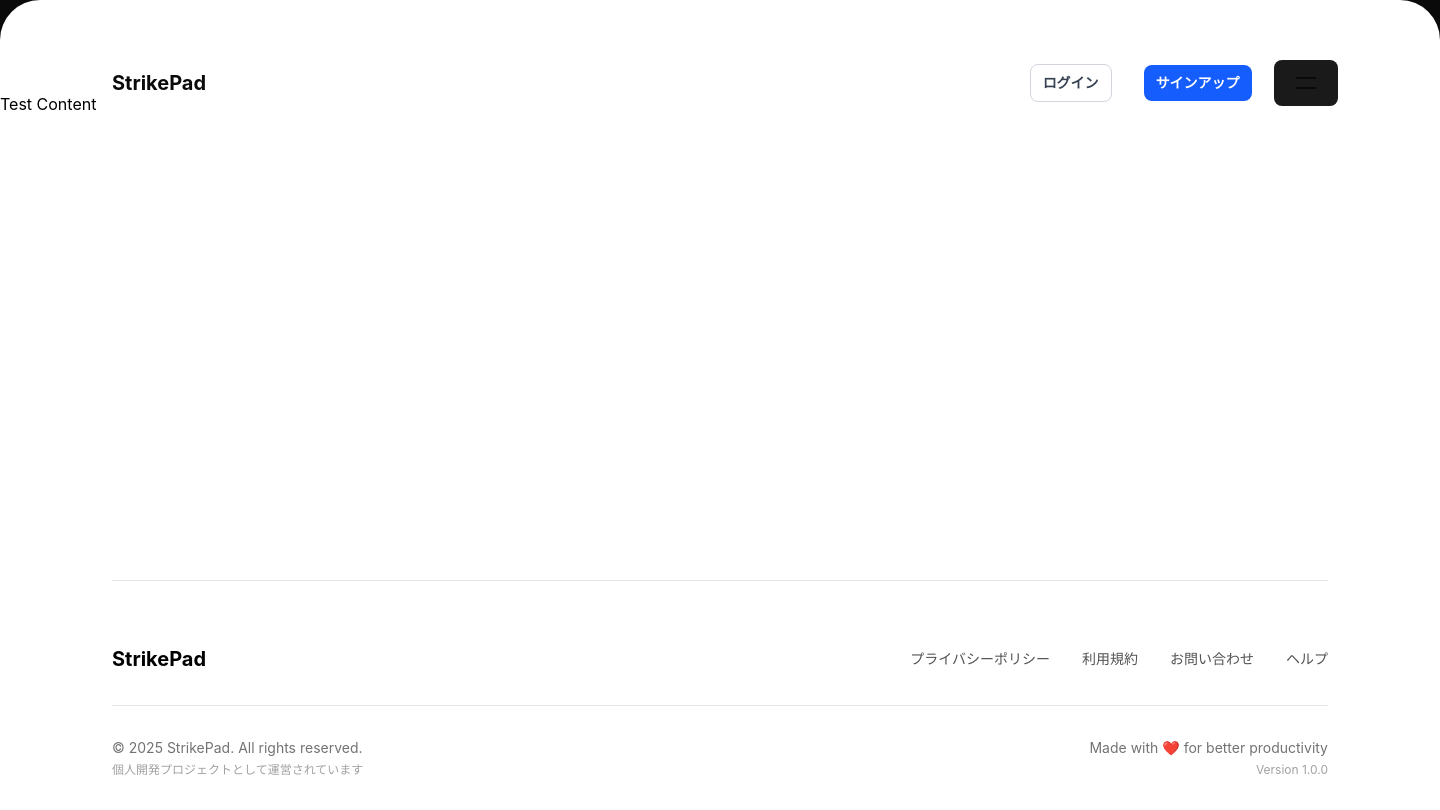
it: Layout › Header Navigation › opens mobile menu when toggle button is clicked
Expected: the text "機能" is not shown
Expected: the text "料金" is not shown
Note: Click the menu toggle button
Click the button named "toggle navigation". click: click(1306, 83)
box: [1274, 60, 1338, 106]
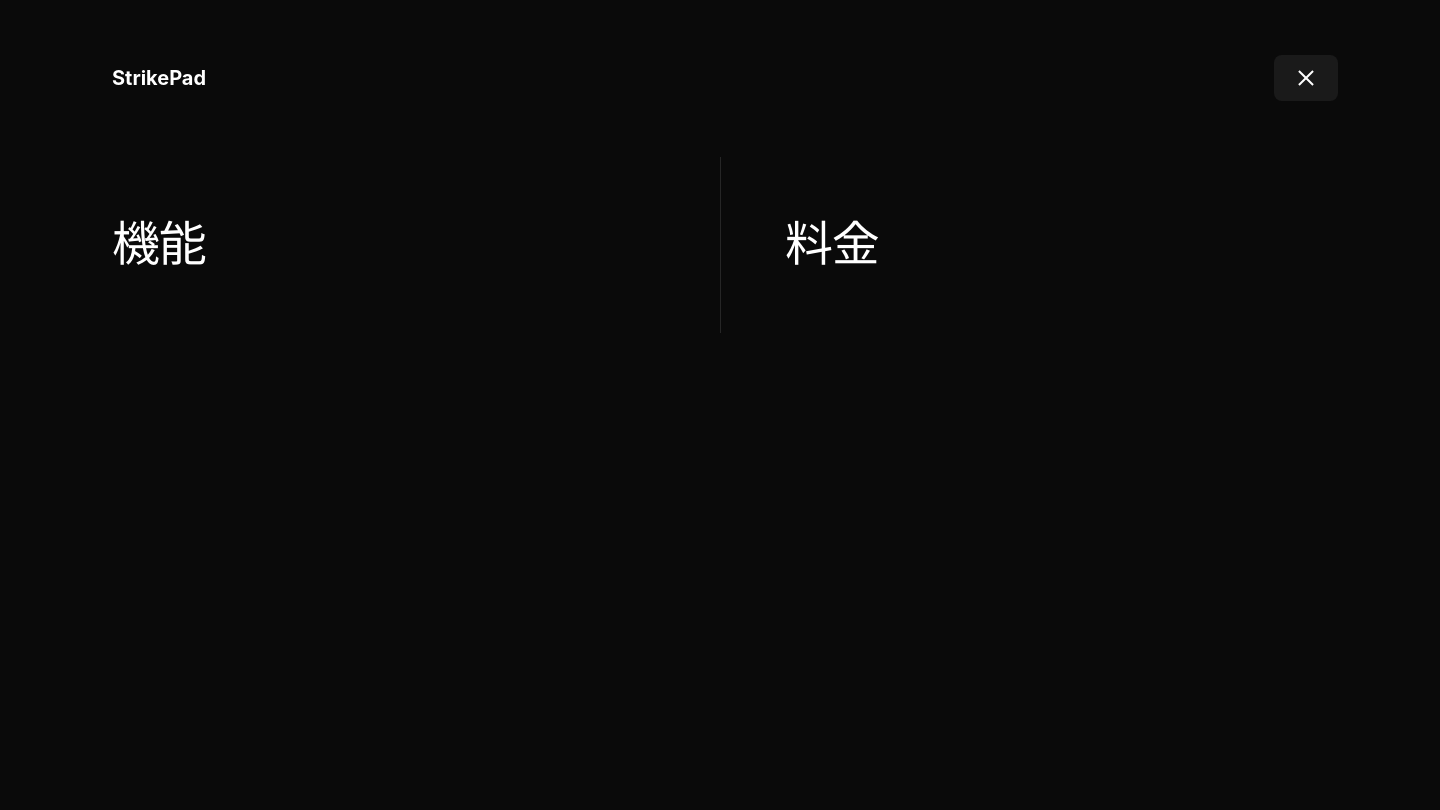
Expected: the link "機能" is shown, [112, 157, 720, 333]
Expected: the link "料金" is shown, [720, 157, 1328, 333]
